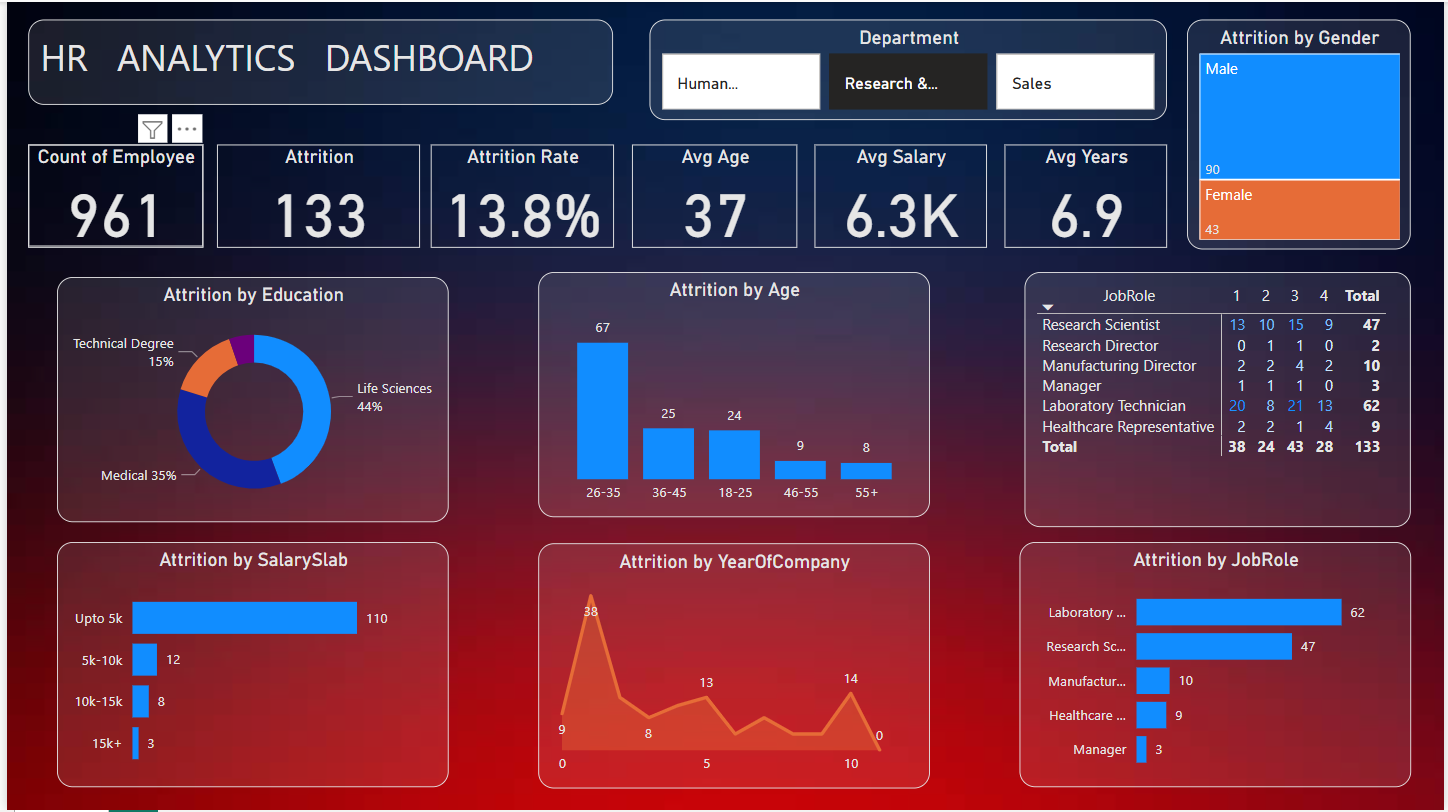

The page's visual inventory and layout, read from the dashboard file:
{"tool":"powerbi","page":{"name":"Page 1","canvas":[1280,720],"ordinal":0},"visuals":[{"type":"card","title":"Count of Employee","fields":{"Values":["CountNonNull(HR_Analytics.EmpID)"]},"box":[19.3,126.9,155.6,91.7],"z":0},{"type":"card","title":"Attrition","fields":{"Values":["Sum(HR_Analytics.AttritionCount)"]},"box":[187,126.9,181,91.7],"z":1000},{"type":"card","title":"Attrition Rate","fields":{"Values":["HR_Analytics.ATtritionRate"]},"box":[377.6,126.9,162.9,91.7],"z":2000},{"type":"card","title":"Avg Age","fields":{"Values":["Avg(HR_Analytics.Age)"]},"box":[556.2,126.9,147.2,91.7],"z":3000},{"type":"card","title":"Avg Salary","fields":{"Values":["Avg(HR_Analytics.MonthlyIncome)"]},"box":[719,126.9,153.2,91.7],"z":4000},{"type":"card","title":"Avg Years","fields":{"Values":["Avg(HR_Analytics.YearsAtCompany)"]},"box":[887.9,126.9,144.8,91.7],"z":5000},{"type":"donutChart","title":"Attrition by Education","fields":{"Y":["Sum(HR_Analytics.AttritionCount)"],"Category":["HR_Analytics.EducationField"]},"box":[44.6,244.4,348.7,218.4],"z":6000},{"type":"columnChart","title":"Attrition by Age","fields":{"Category":["HR_Analytics.AgeGroup"],"Y":["Sum(HR_Analytics.AttritionCount)"]},"box":[472.9,240.8,348.7,218.4],"z":7000},{"type":"pivotTable","fields":{"Rows":["HR_Analytics.JobRole"],"Values":["Sum(HR_Analytics.AttritionCount)"],"Columns":["HR_Analytics.JobSatisfaction"]},"box":[906,240.8,343.8,226.8],"z":8000},{"type":"barChart","title":"Attrition by SalarySlab","fields":{"Category":["HR_Analytics.SalarySlab"],"Y":["Sum(HR_Analytics.AttritionCount)"]},"box":[44.6,481.4,348.7,218.4],"z":9000},{"type":"barChart","title":"Attrition by JobRole","fields":{"Y":["Sum(HR_Analytics.AttritionCount)"],"Category":["HR_Analytics.JobRole"]},"box":[901.2,481.4,348.7,218.4],"z":10000},{"type":"areaChart","title":"Attrition by YearOfCompany","fields":{"Category":["HR_Analytics.YearsAtCompany"],"Y":["Sum(HR_Analytics.AttritionCount)"]},"box":[473.4,481.6,348.5,218.2],"z":11000},{"type":"treemap","title":"Attrition by Gender","fields":{"Group":["HR_Analytics.Gender"],"Values":["Sum(HR_Analytics.AttritionCount)"]},"box":[1050.8,15.7,199.1,205.1],"z":12000},{"type":"advancedSlicerVisual","fields":{"Values":["HR_Analytics.Department"]},"box":[571.9,15.7,460.9,89.3],"z":13000},{"type":"textbox","box":[19.3,15.7,521.2,76],"z":13001}]}

Visuals, with their boxes in screenshot pixels (x1, y1, x2, y2), scaled from the page's 1280x720 canvas onto the 1448x812 screenshot:
"Count of Employee" card: 22/143/198/247
"Attrition" card: 212/143/416/247
"Attrition Rate" card: 427/143/611/247
"Avg Age" card: 629/143/796/247
"Avg Salary" card: 813/143/987/247
"Avg Years" card: 1004/143/1168/247
"Attrition by Education" donutChart: 50/276/445/522
"Attrition by Age" columnChart: 535/272/929/518
pivotTable - HR_Analytics.JobRole x Sum(HR_Analytics.AttritionCount): 1025/272/1414/527
"Attrition by SalarySlab" barChart: 50/543/445/789
"Attrition by JobRole" barChart: 1019/543/1414/789
"Attrition by YearOfCompany" areaChart: 536/543/930/789
"Attrition by Gender" treemap: 1189/18/1414/249
advancedSlicerVisual - HR_Analytics.Department: 647/18/1168/118
textbox: 22/18/611/103
